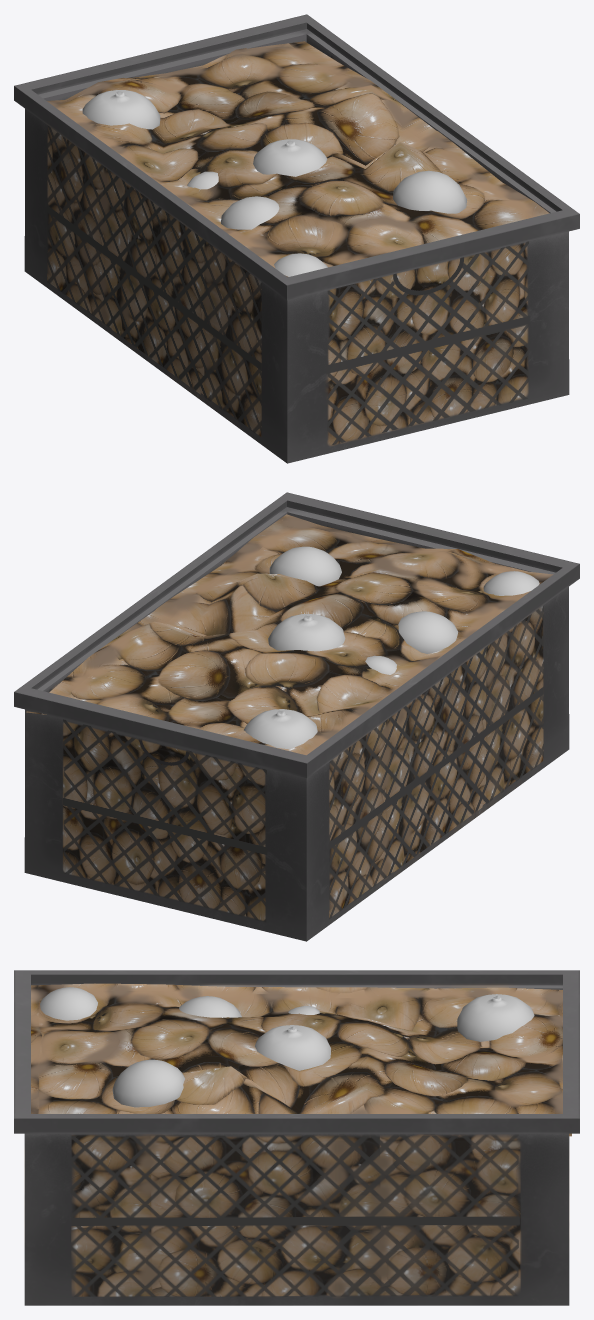
The model's file is cebolla blanca caja.fbx.
The picture shows the model from 3 angles, top to bottom: view 1: azimuth 30°, elevation 25°; view 2: azimuth 150°, elevation 25°; view 3: azimuth 270°, elevation 25°; orthographic projection. The views are drawn at different scales.
Visible parts, largest first — view 1: caja de cebolla blanca, cebollas plano 1, Onion.001, Onion.003, Onion.004, Onion.005, Onion.002; view 2: caja de cebolla blanca, cebollas plano 1, Onion.004, Onion.003, Onion.001, Onion.005, Onion.002; view 3: caja de cebolla blanca, cebollas plano 1, Onion.001, Onion.003, Onion.004, Onion.002, Onion.005.
Part boxes in pixels (<box>): caja de cebolla blanca: <box>14,14,579,463</box>; cebollas plano 1: <box>47,41,549,277</box>; Onion.001: <box>393,170,466,213</box>; Onion.003: <box>82,90,160,129</box>; Onion.004: <box>253,139,327,176</box>; Onion.005: <box>221,196,279,229</box>; Onion.002: <box>274,253,327,276</box>; caja de cebolla blanca: <box>14,492,579,941</box>; cebollas plano 1: <box>26,514,553,755</box>; Onion.004: <box>268,614,345,651</box>; Onion.003: <box>244,709,317,748</box>; Onion.001: <box>269,546,341,586</box>; Onion.005: <box>398,611,458,653</box>; Onion.002: <box>483,571,539,595</box>; caja de cebolla blanca: <box>14,970,579,1305</box>; cebollas plano 1: <box>31,983,571,1136</box>; Onion.001: <box>112,1059,184,1107</box>; Onion.003: <box>457,994,534,1041</box>; Onion.004: <box>255,1025,330,1070</box>; Onion.002: <box>40,987,97,1020</box>; Onion.005: <box>179,996,241,1017</box>.
Bounding box in the file's own units: 48.03 × 30.84 × 77.46.
